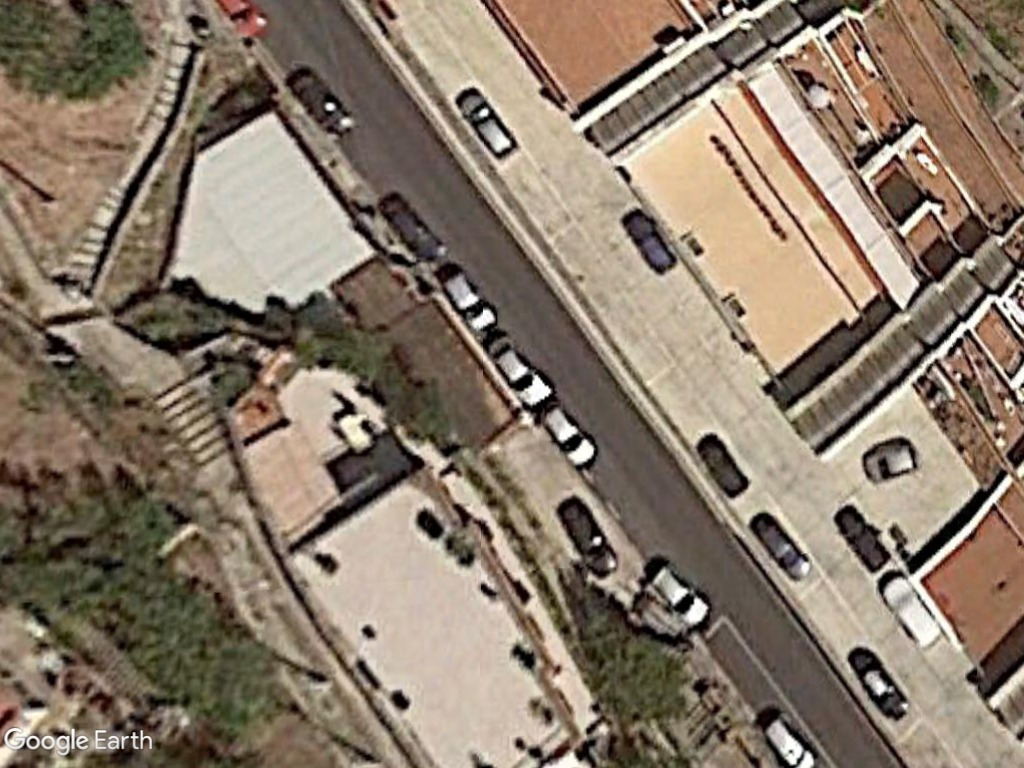car: (484, 336, 559, 407), (455, 93, 520, 162), (751, 517, 817, 582), (437, 268, 499, 336), (535, 403, 597, 471), (645, 564, 713, 626), (859, 439, 923, 484)
